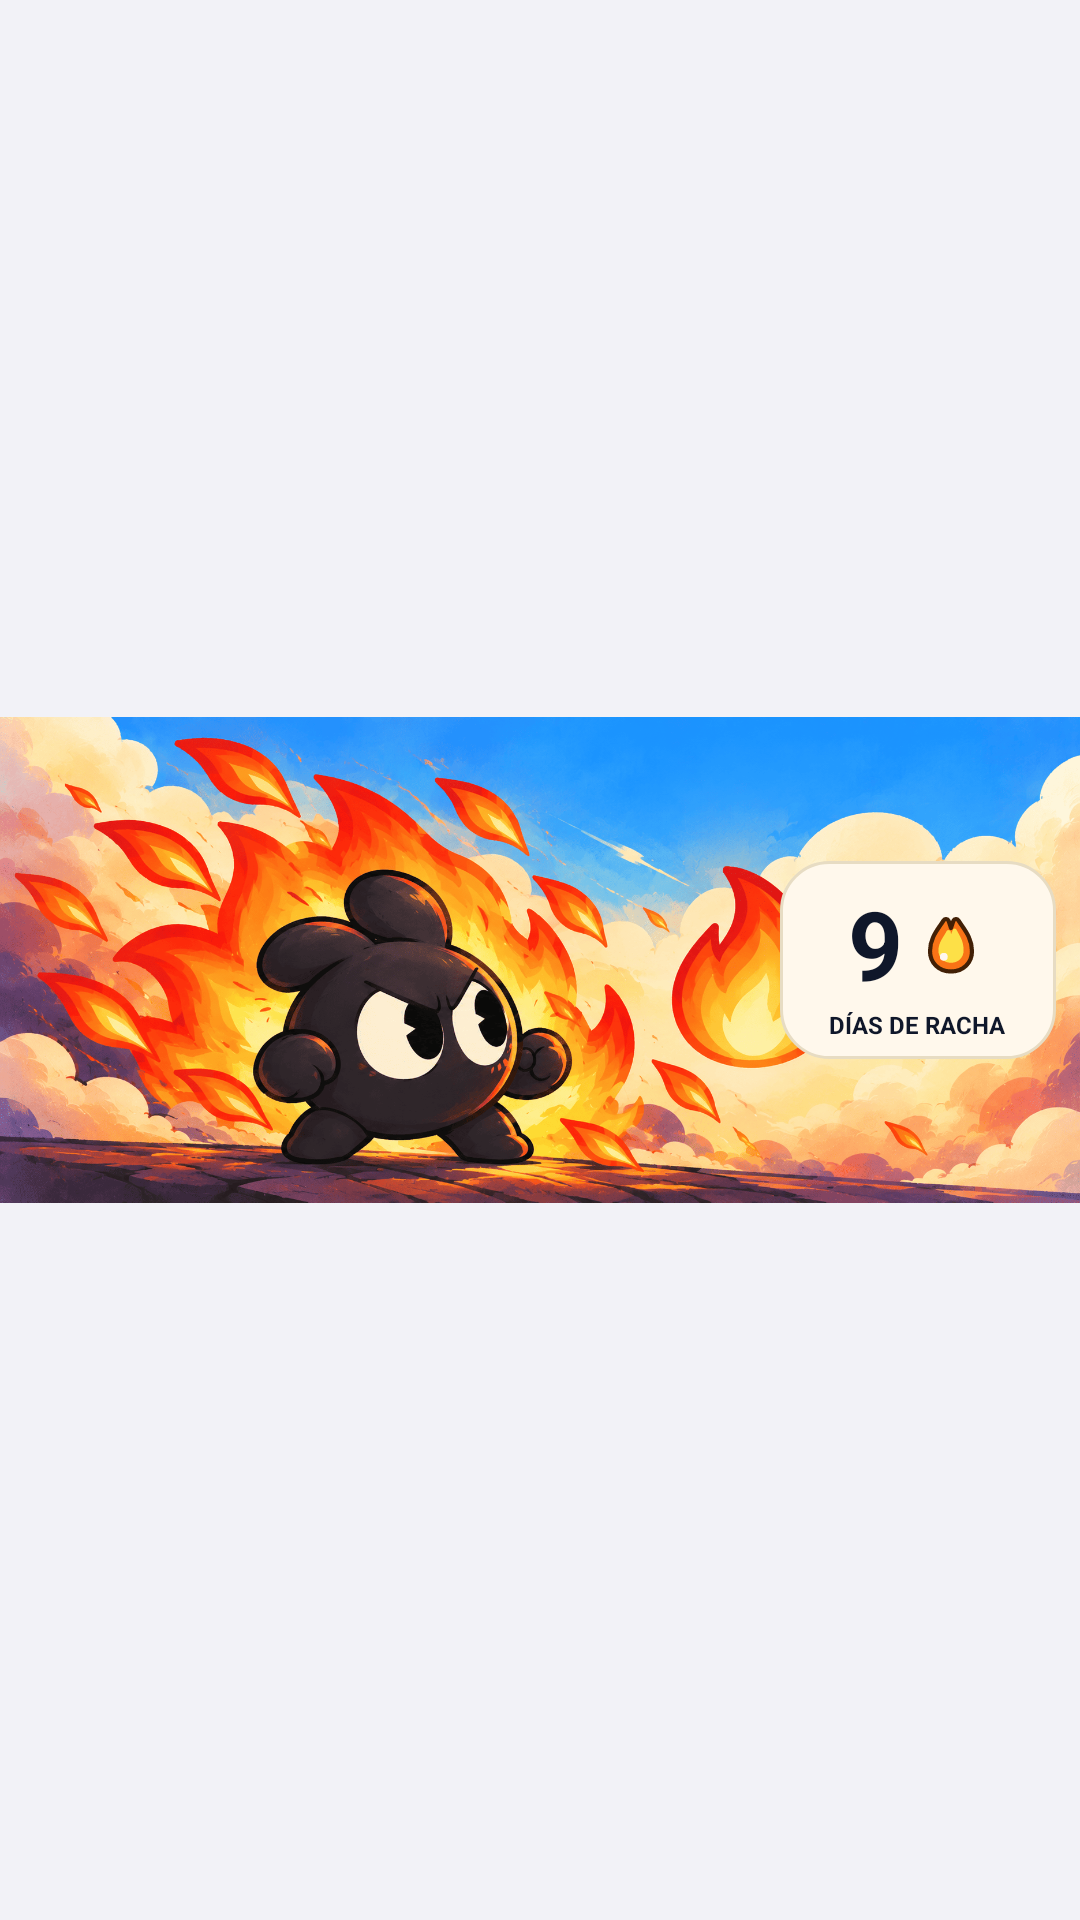

Icons on this 1080px×1920px Android screen, each with its box as bbox(x1, y1, x2, y2):
flame cartoon: bbox(928, 917, 974, 974)
